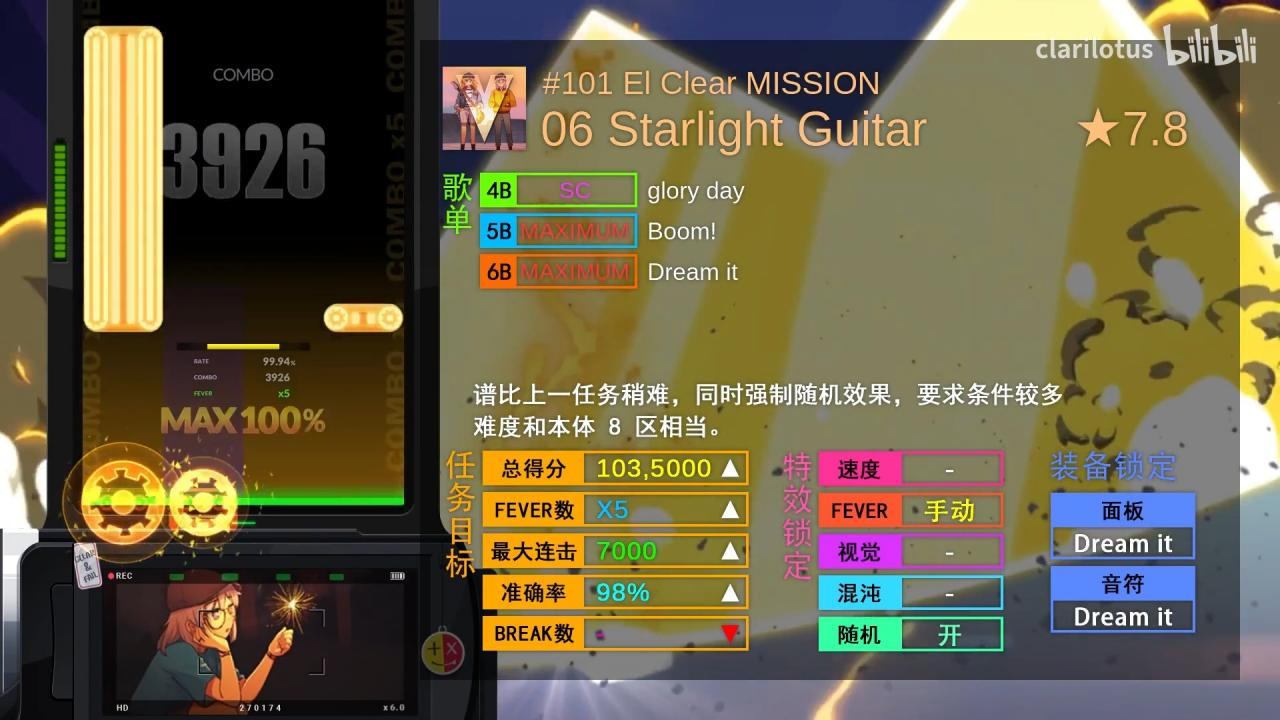hold-end: (84, 27, 164, 54)
hold-start: (84, 306, 164, 333)
note: (324, 304, 404, 332)
